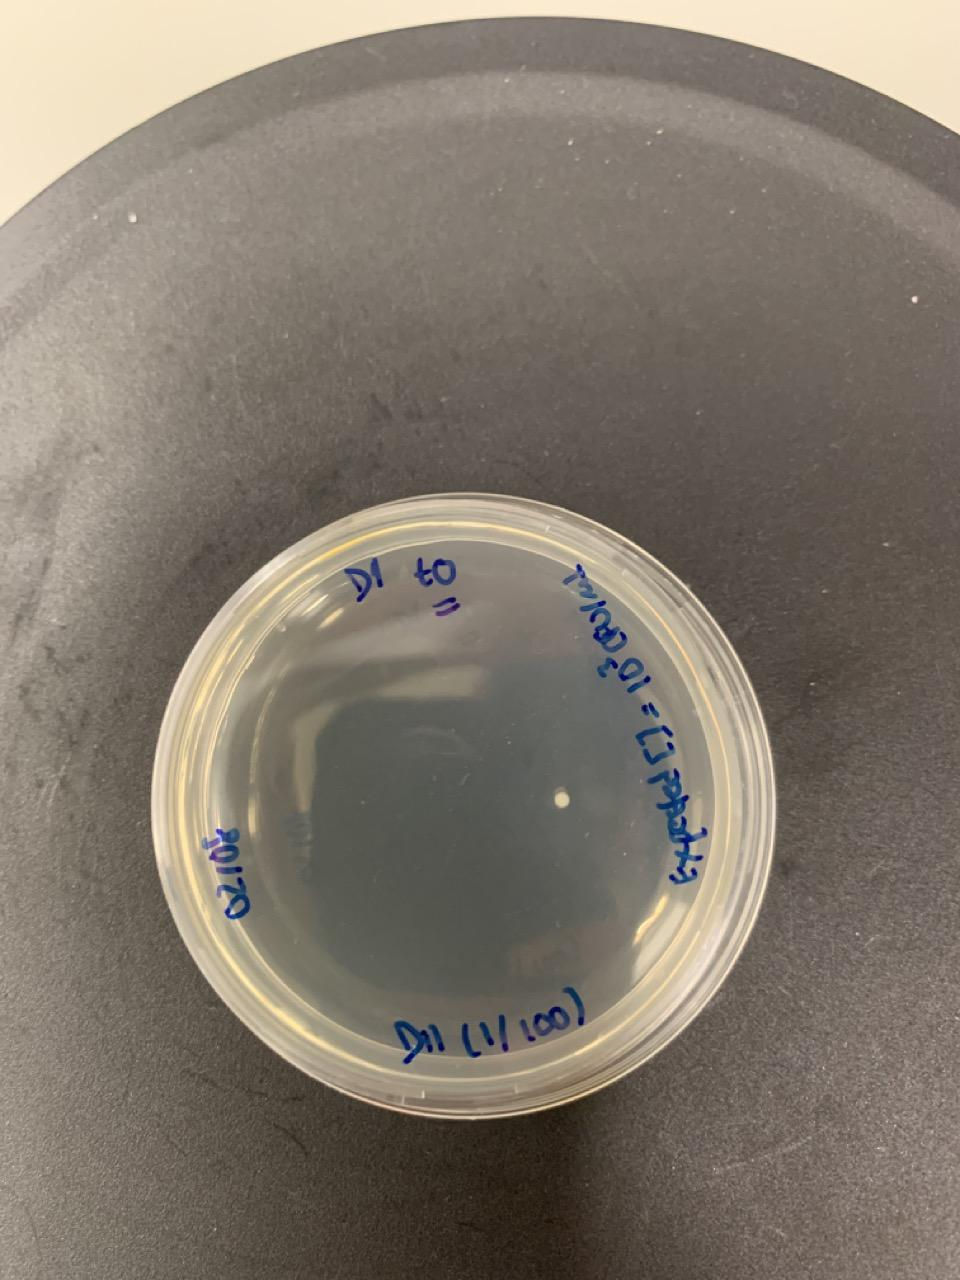colony: (553, 788, 572, 811)
